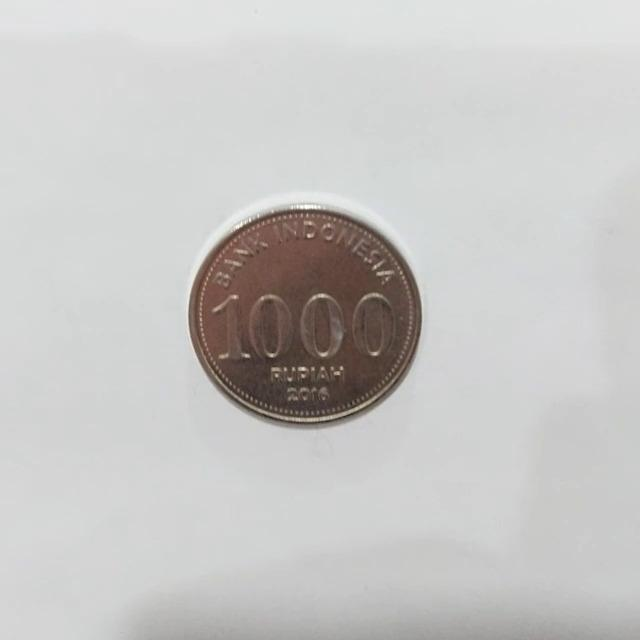Rp100: (185, 193, 423, 428)
